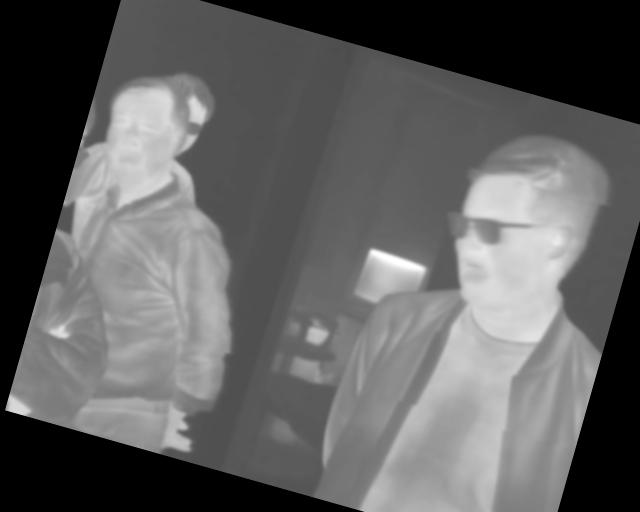face: (431, 113, 624, 332), (90, 65, 199, 197)
